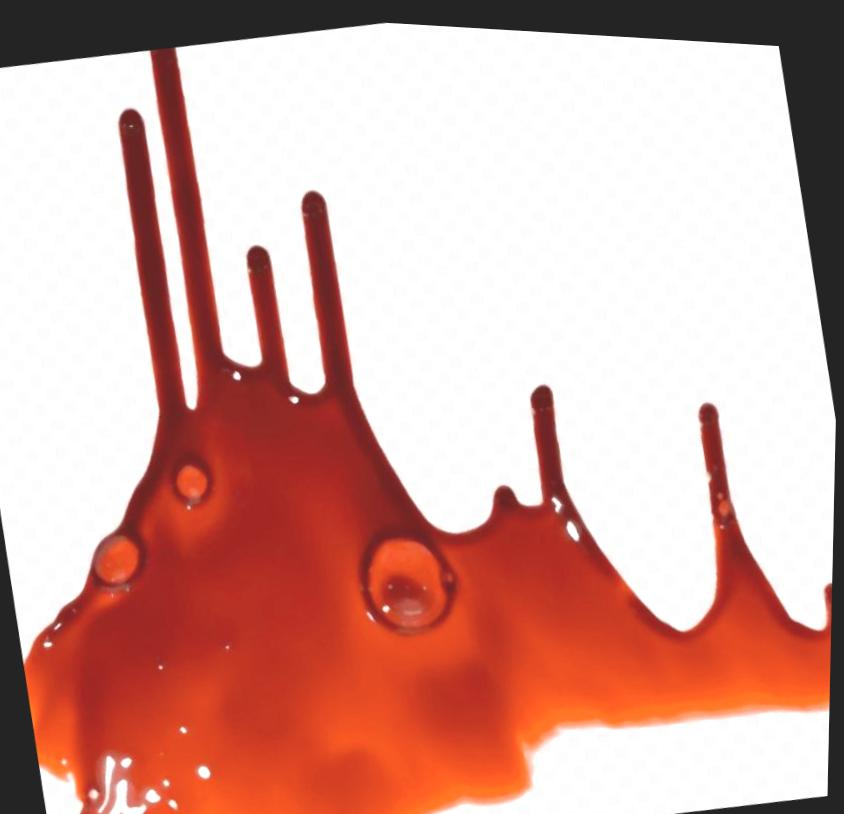Fire: (27, 45, 835, 814)
